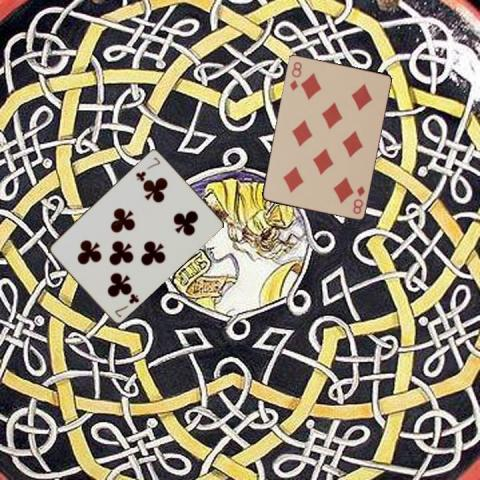7c: (112, 290, 141, 318), (133, 154, 161, 182)
8d: (349, 183, 366, 215), (287, 59, 303, 92)
